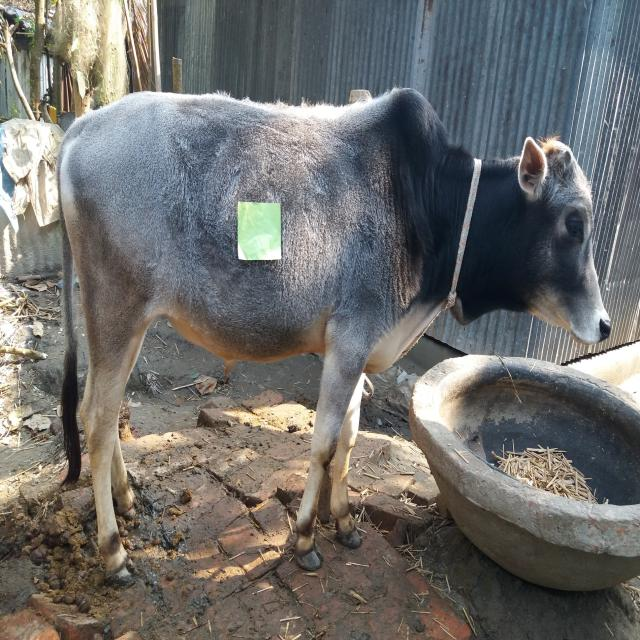badan_sapi: (61, 95, 390, 365)
sapi: (55, 81, 615, 604)
